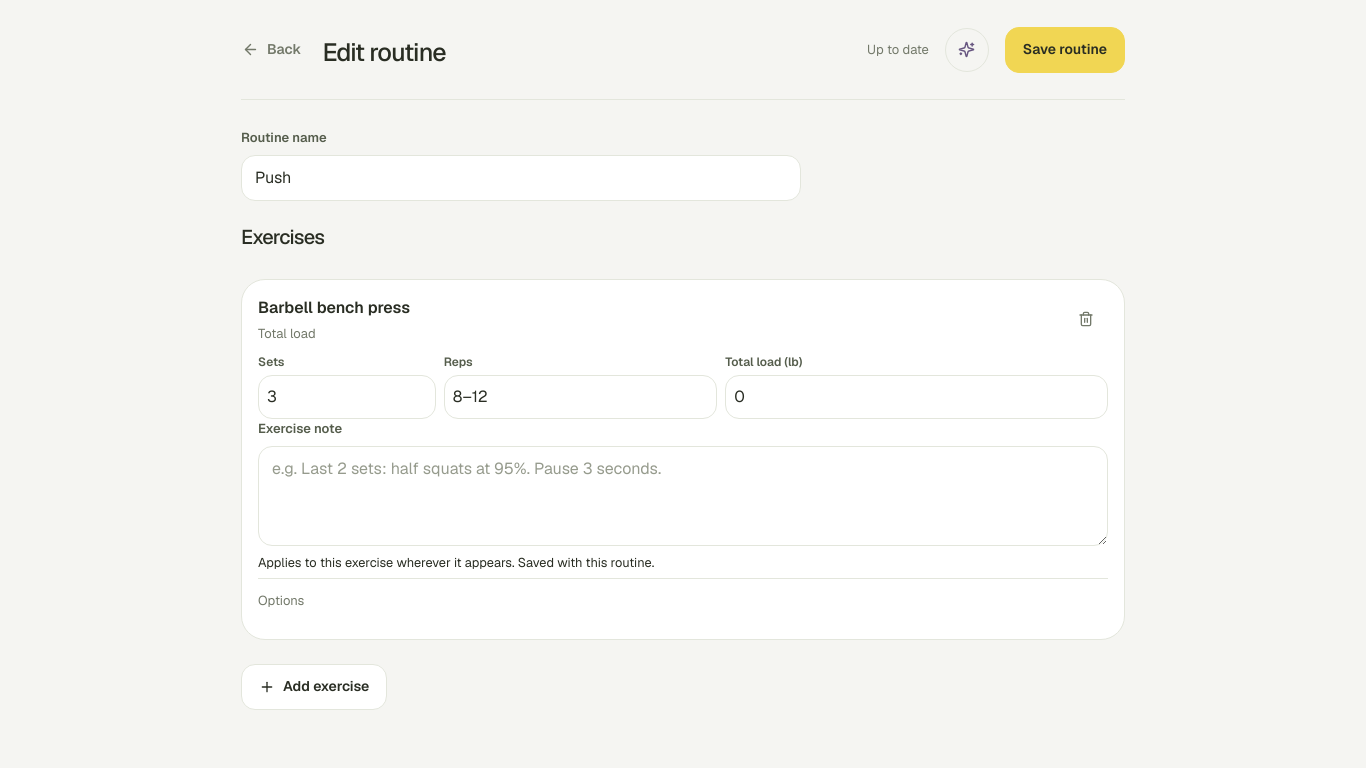
RoutineEditor removal review › exposes a keyboard-visible remove button and leaves the draft unchanged when confirmation is canceled
Step 1. Click the button named "Remove Barbell bench press" → (1086, 319), box [1064,297,1108,341]
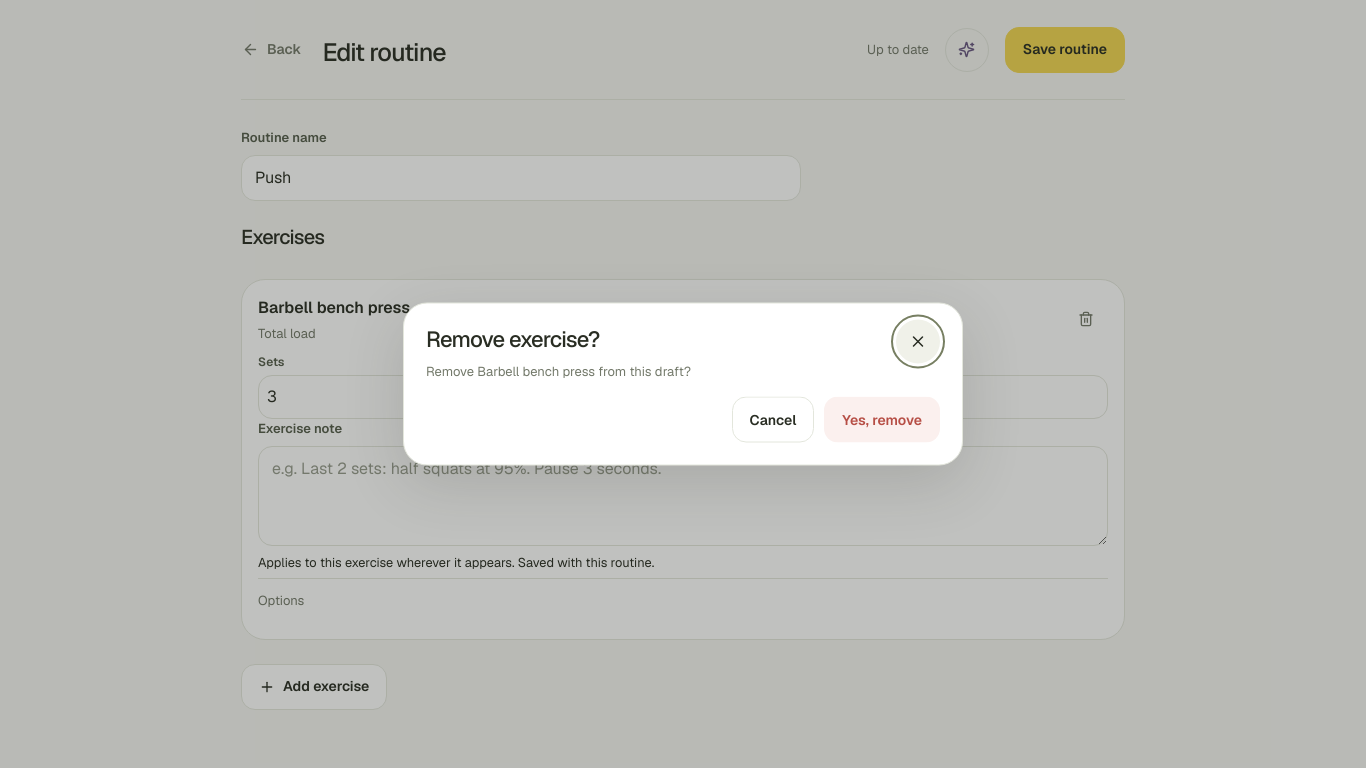
Expected: the dialog "Remove exercise?" is shown, [403,302,963,466]
Step 2. Click the button "Cancel" → (773, 420), box [732,396,814,442]
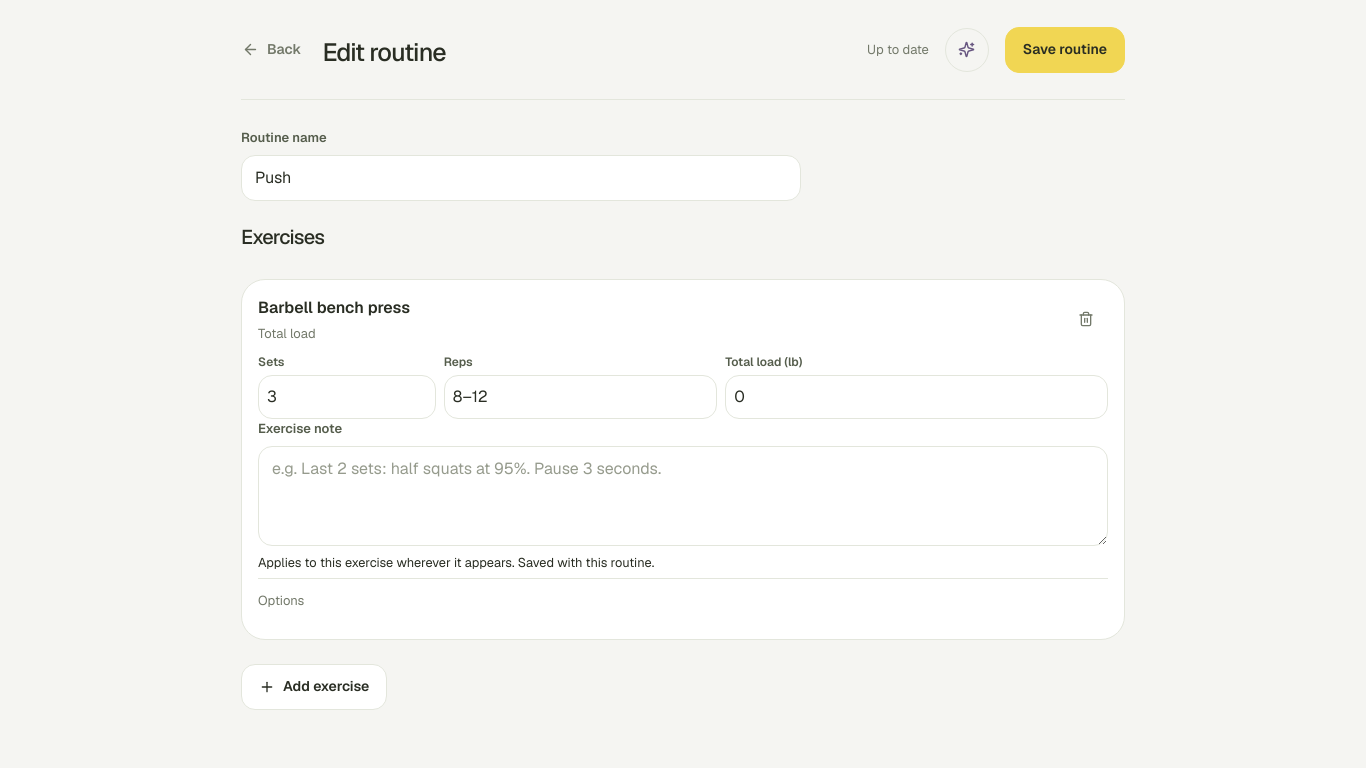
Expected: the element with class "routine-editor-item" is shown, [241,278,1125,640]
Expected: the heading "Remove exercise?" is gone
